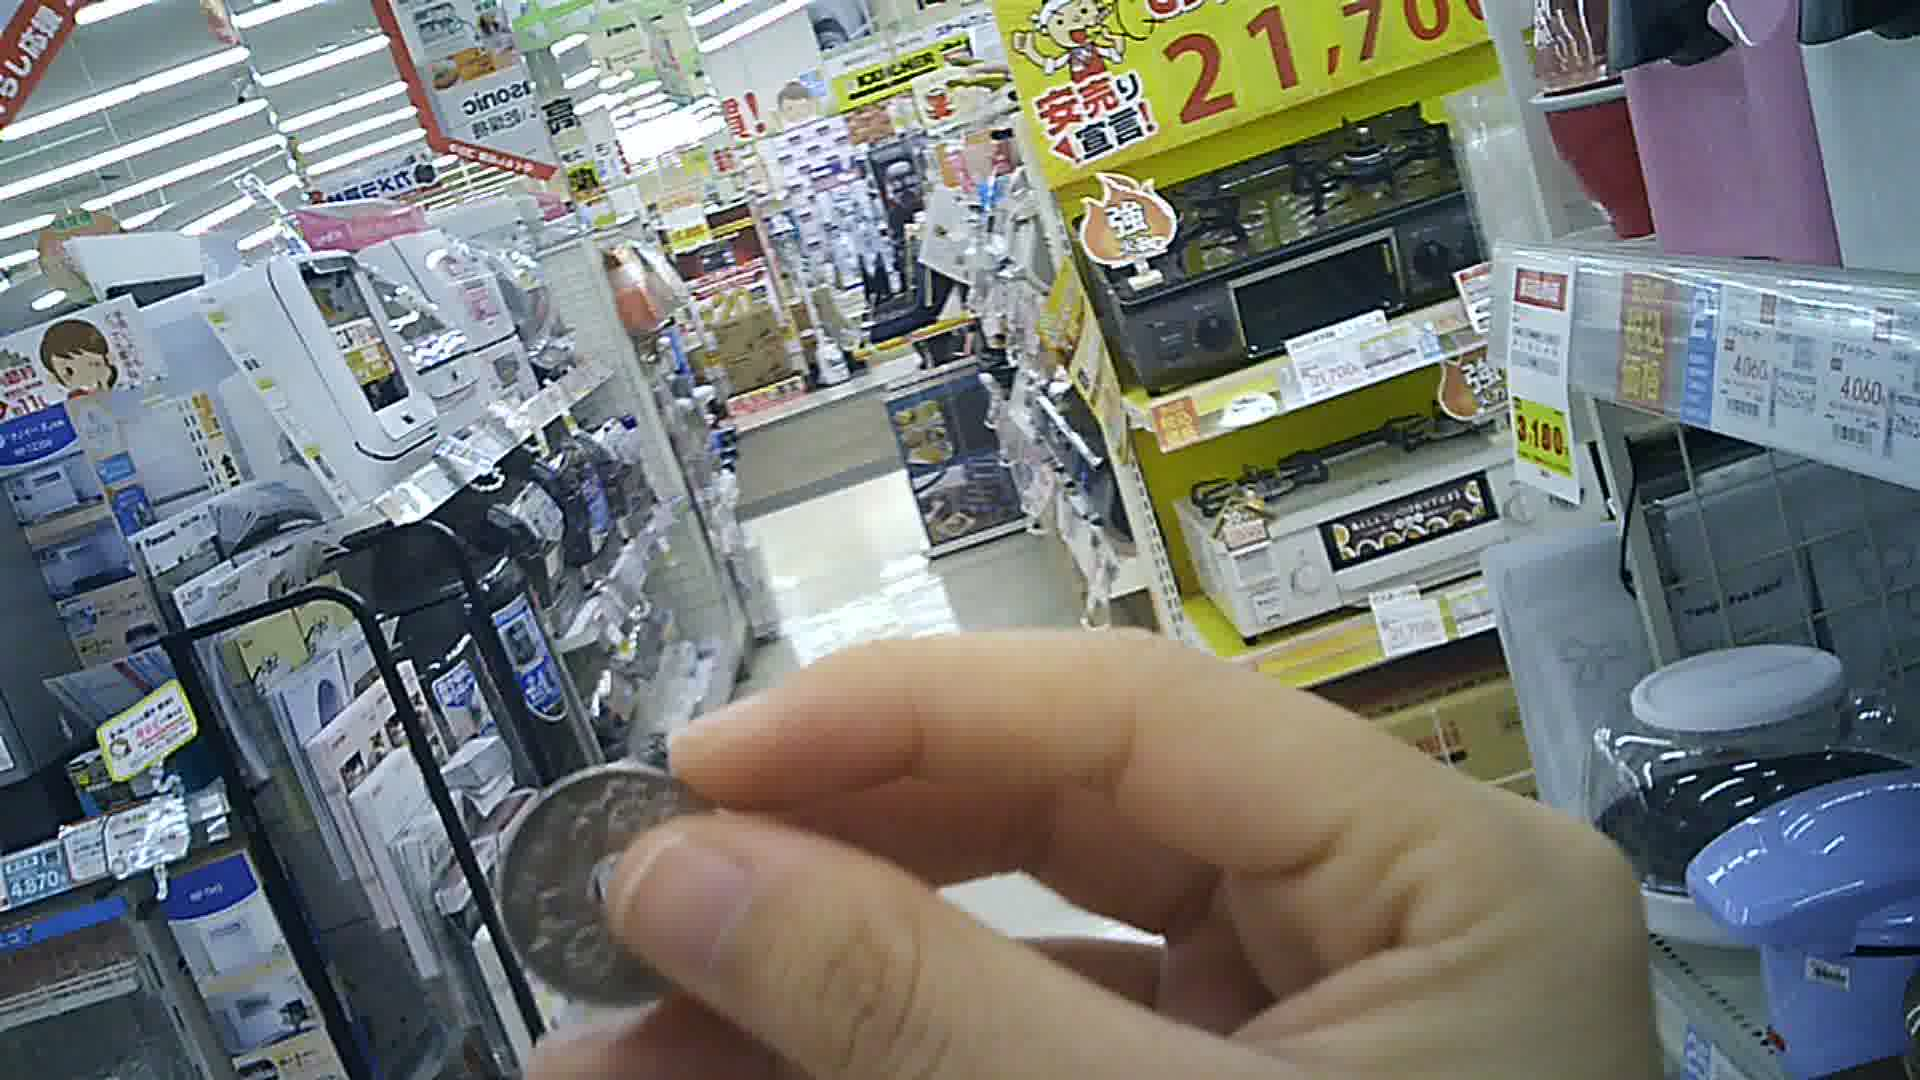50 Yen: (496, 765, 737, 1013)
